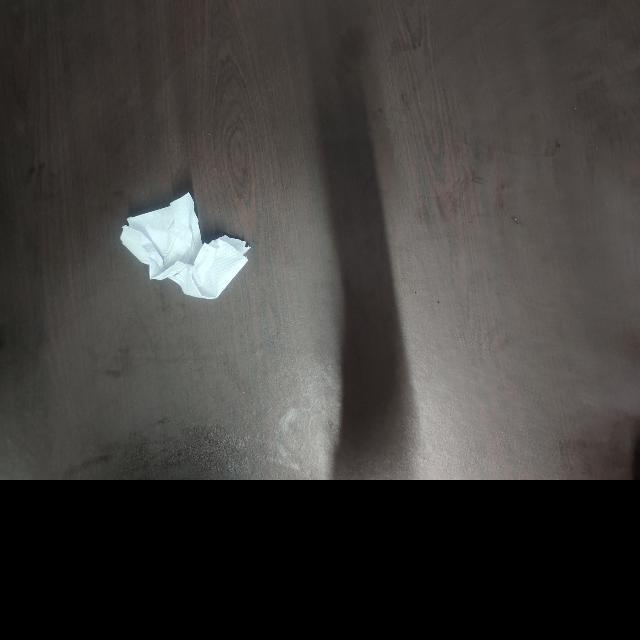kitchen paper: (115, 188, 255, 304)
